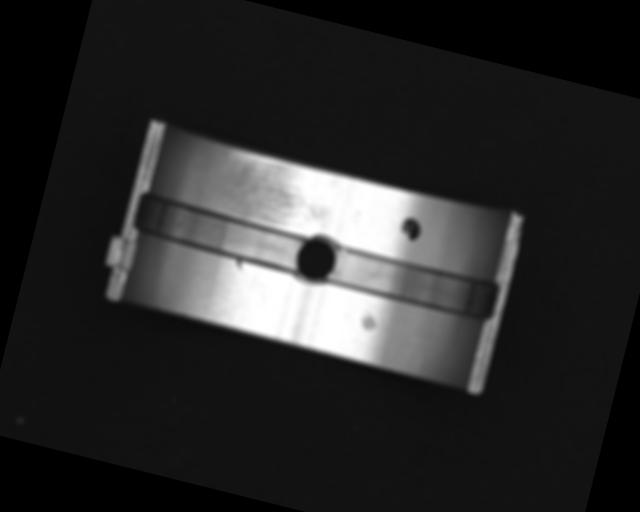blot: (397, 213, 424, 242)
bruise: (357, 309, 381, 334), (234, 258, 244, 271)
gap: (129, 190, 310, 277), (325, 241, 500, 324)
hole: (291, 230, 343, 289)
scratch: (217, 149, 340, 238)
